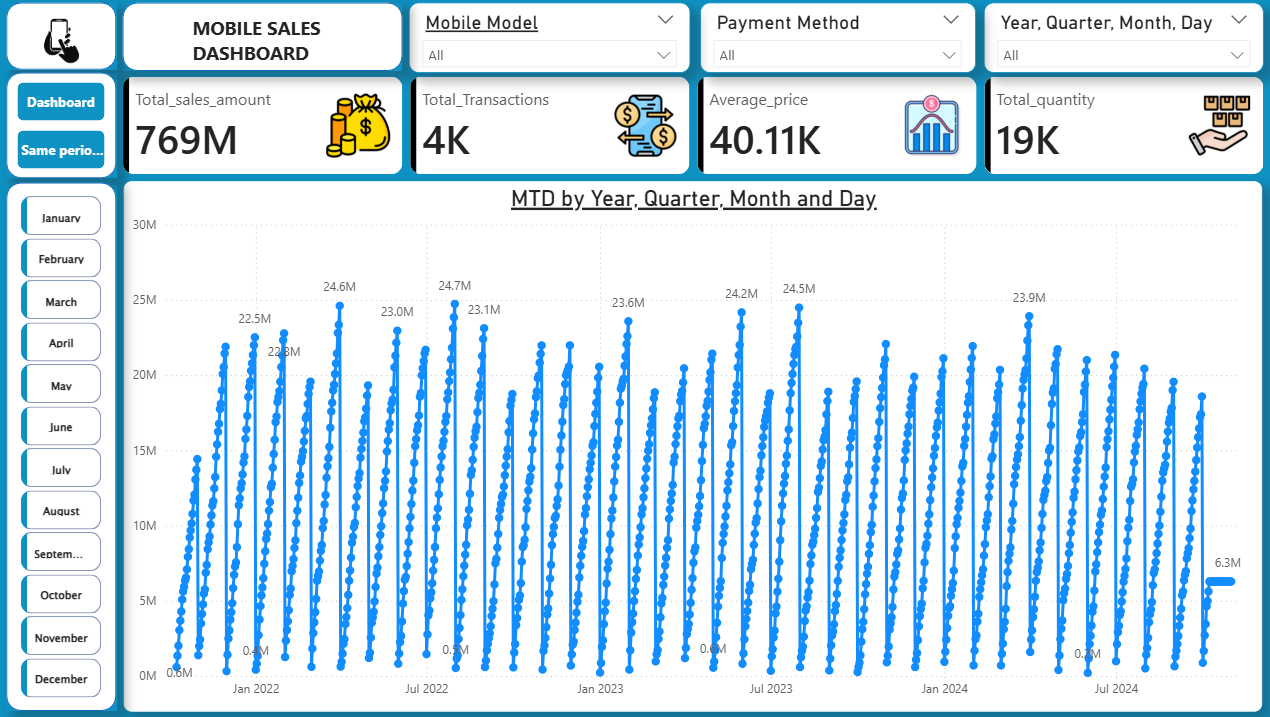

The dashboard page shown, as its layout file describes it:
{"tool":"powerbi","page":{"name":"MTD report","canvas":[1280,720],"ordinal":1},"visuals":[{"type":"shape","box":[5.7,2.9,110,67.1],"z":0},{"type":"image","box":[20,2.9,82.9,77.1],"z":1000},{"type":"shape","box":[5.7,72.9,110,105.7],"z":2000},{"type":"cardVisual","fields":{"Data":["Mobiles_sales_data.Total_sales_amount","Mobiles_sales_data.Total_Transactions","Mobiles_sales_data.Average_price","Mobiles_sales_data.Total_quantity"]},"box":[105.7,60,1174.3,131.4],"z":3000},{"type":"slicer","fields":{"Values":["Custom_calendar.Date.Variation.Date Hierarchy.Year","Custom_calendar.Date.Variation.Date Hierarchy.Quarter","Custom_calendar.Date.Variation.Date Hierarchy.Month","Custom_calendar.Date.Variation.Date Hierarchy.Day"]},"box":[984.3,2.9,280,70],"z":4000},{"type":"slicer","fields":{"Values":["Mobiles_sales_data.Payment Method"]},"box":[700,2.9,275.7,70],"z":5000},{"type":"slicer","fields":{"Values":["Mobiles_sales_data.Mobile Model"]},"box":[408.6,2.9,281.4,70],"z":6000},{"type":"shape","box":[122.9,2.9,280,68.6],"z":7000},{"type":"textbox","box":[187.1,10,150,60],"z":8000},{"type":"lineChart","fields":{"Y":["Mobiles_sales_data.MTD"],"Category":["Custom_calendar.Date.Variation.Date Hierarchy.Year","Custom_calendar.Date.Variation.Date Hierarchy.Quarter","Custom_calendar.Date.Variation.Date Hierarchy.Month","Custom_calendar.Date.Variation.Date Hierarchy.Day"]},"box":[124.3,181.4,1138.6,530],"z":9000},{"type":"shape","box":[5.7,182.9,110,528.6],"z":10000},{"type":"advancedSlicerVisual","fields":{"Values":["Custom_calendar.Date.Variation.Date Hierarchy.Month"]},"box":[15.7,191.4,90,517.1],"z":11000},{"type":"pageNavigator","box":[17.1,82.9,87.1,87.1],"z":12000}]}

Visuals, with their boxes in screenshot pixels (x1, y1, x2, y2), scaled from the page's 1280x720 canvas onto the 1270x717 screenshot:
shape: {"x1": 6, "y1": 3, "x2": 115, "y2": 70}
image: {"x1": 20, "y1": 3, "x2": 102, "y2": 80}
shape: {"x1": 6, "y1": 73, "x2": 115, "y2": 178}
cardVisual - Mobiles_sales_data.Total_sales_amount x Mobiles_sales_data.Total_Transactions: {"x1": 105, "y1": 60, "x2": 1269, "y2": 191}
slicer - Custom_calendar.Date.Variation.Date Hierarchy.Year x Custom_calendar.Date.Variation.Date Hierarchy.Quarter: {"x1": 977, "y1": 3, "x2": 1254, "y2": 73}
slicer - Mobiles_sales_data.Payment Method: {"x1": 695, "y1": 3, "x2": 968, "y2": 73}
slicer - Mobiles_sales_data.Mobile Model: {"x1": 405, "y1": 3, "x2": 685, "y2": 73}
shape: {"x1": 122, "y1": 3, "x2": 400, "y2": 71}
textbox: {"x1": 186, "y1": 10, "x2": 334, "y2": 70}
lineChart - Mobiles_sales_data.MTD x Custom_calendar.Date.Variation.Date Hierarchy.Year: {"x1": 123, "y1": 181, "x2": 1253, "y2": 708}
shape: {"x1": 6, "y1": 182, "x2": 115, "y2": 709}
advancedSlicerVisual - Custom_calendar.Date.Variation.Date Hierarchy.Month: {"x1": 16, "y1": 191, "x2": 105, "y2": 706}
pageNavigator: {"x1": 17, "y1": 83, "x2": 103, "y2": 169}
